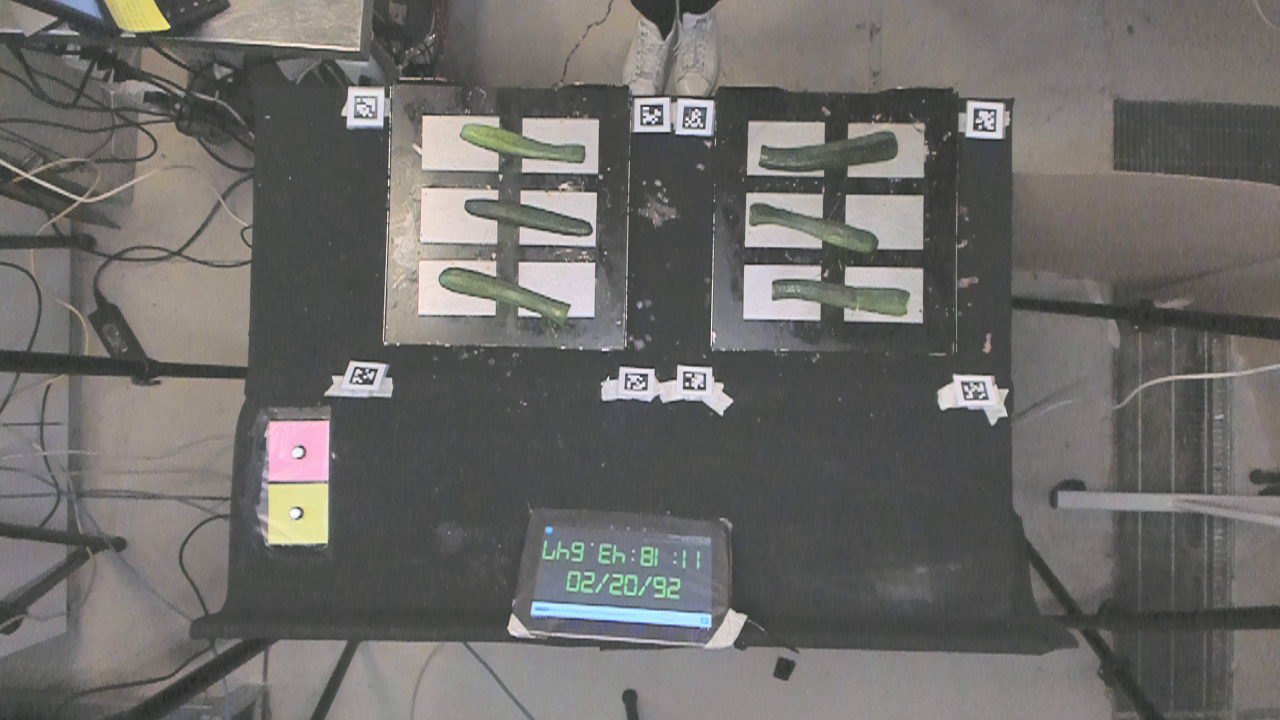marker: (268, 421, 329, 480)
zucchini: (436, 266, 579, 332), (767, 268, 911, 323), (748, 198, 881, 254), (462, 189, 594, 245), (759, 125, 903, 176), (460, 118, 590, 166)
